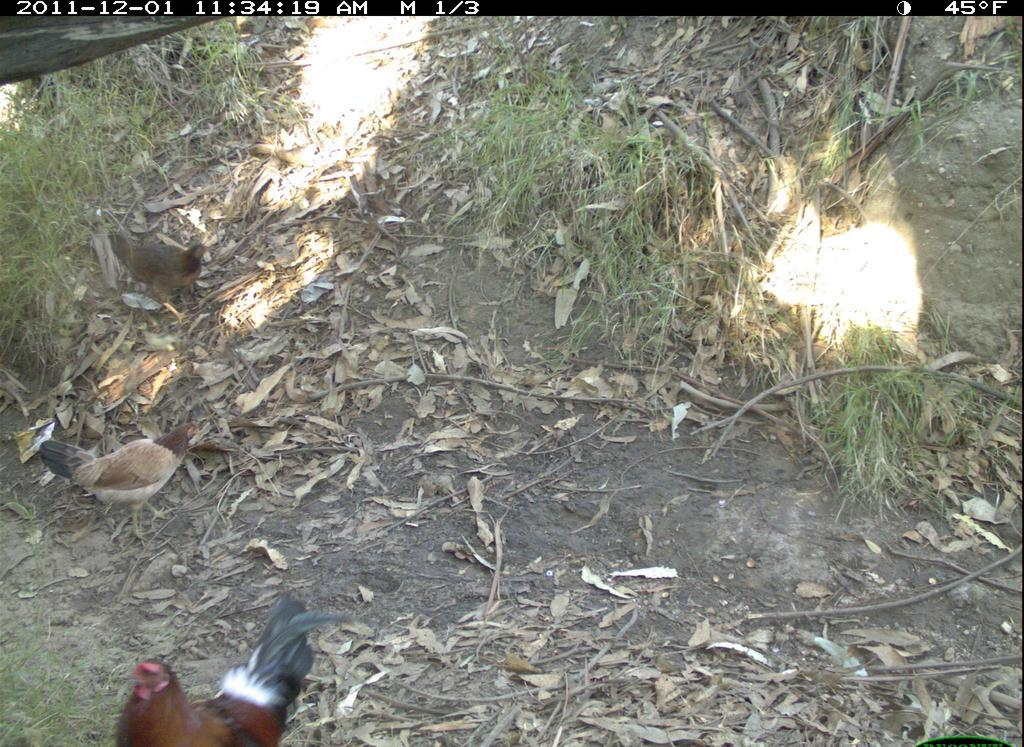bird: (107, 593, 358, 740), (30, 413, 222, 550), (102, 228, 221, 326)
